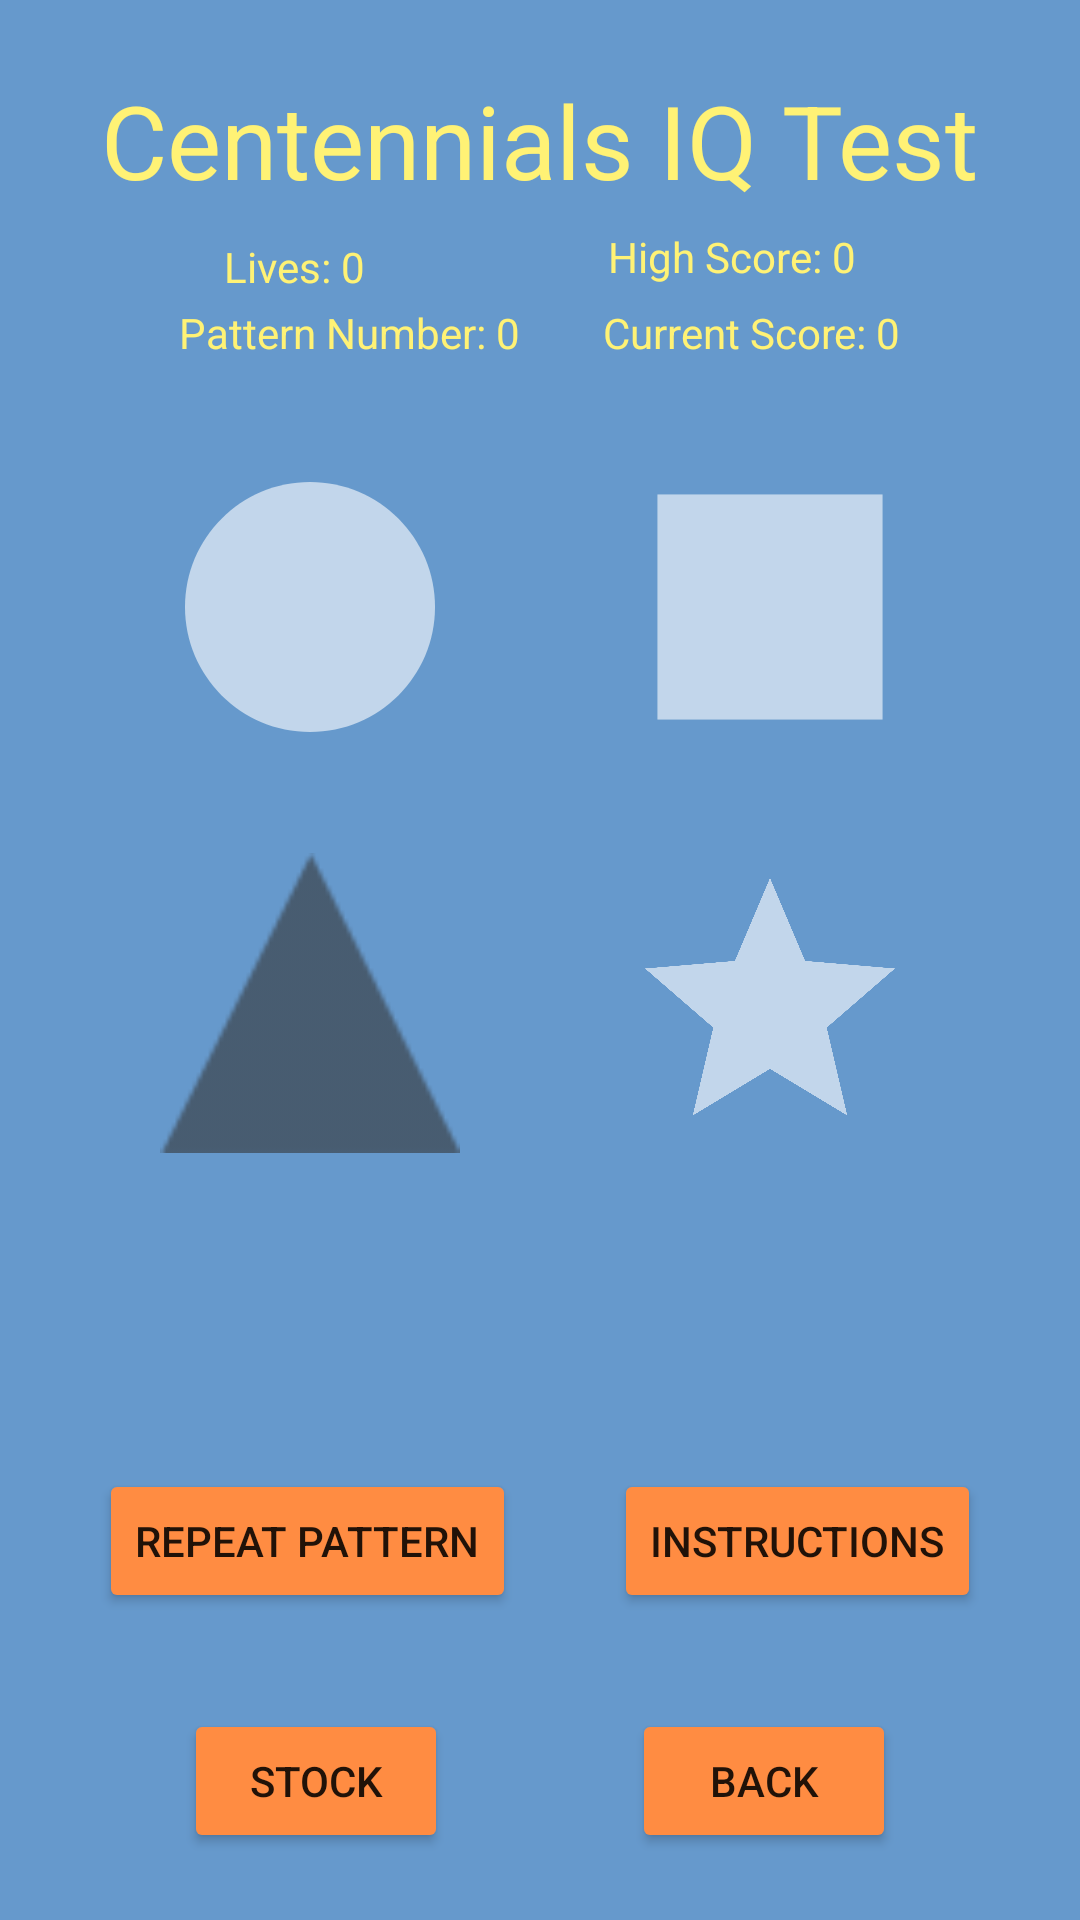

Icon click points for this 1080×1920 phone screenshot, format (x,y):
star: (770,997)
